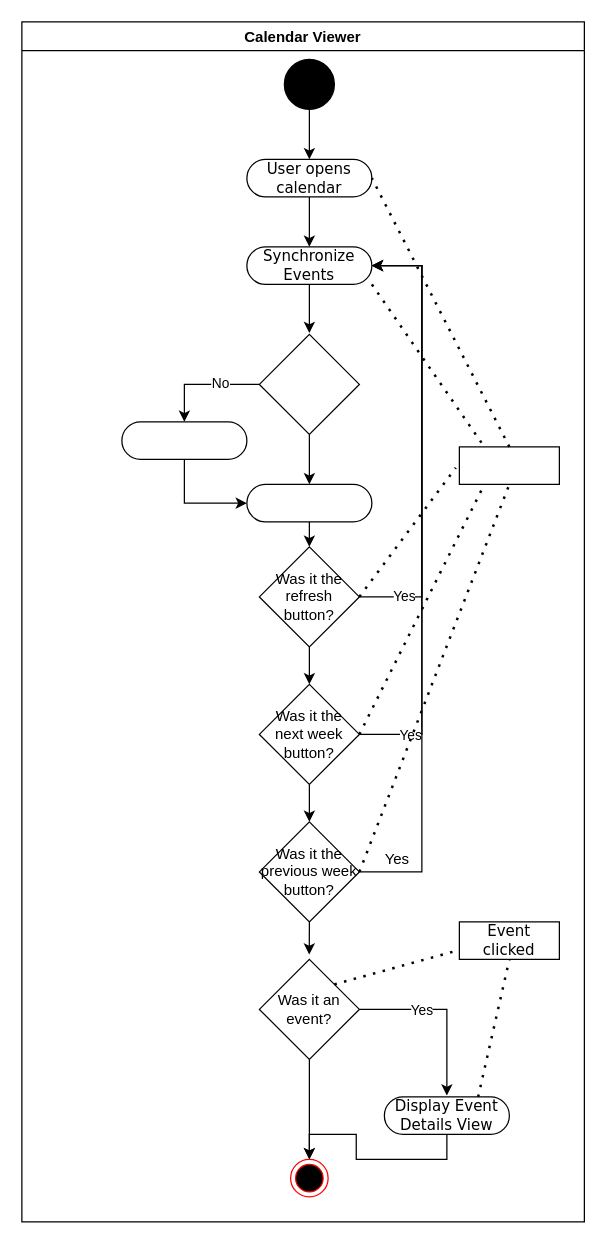
Image size: 606x1244. Some labels were removed from this diagram. The centre of each missing label's shape, as x and y in pixels:
Display an error message: [184,440]
Sync successful?: [308,383]
Time Period To Sync: [508,465]
User clicks button: [309,502]
